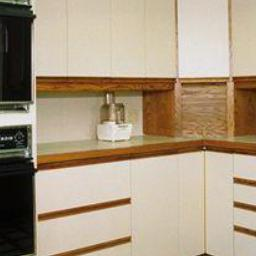Electrodomestico: (0, 123, 31, 256), (0, 0, 30, 116)
